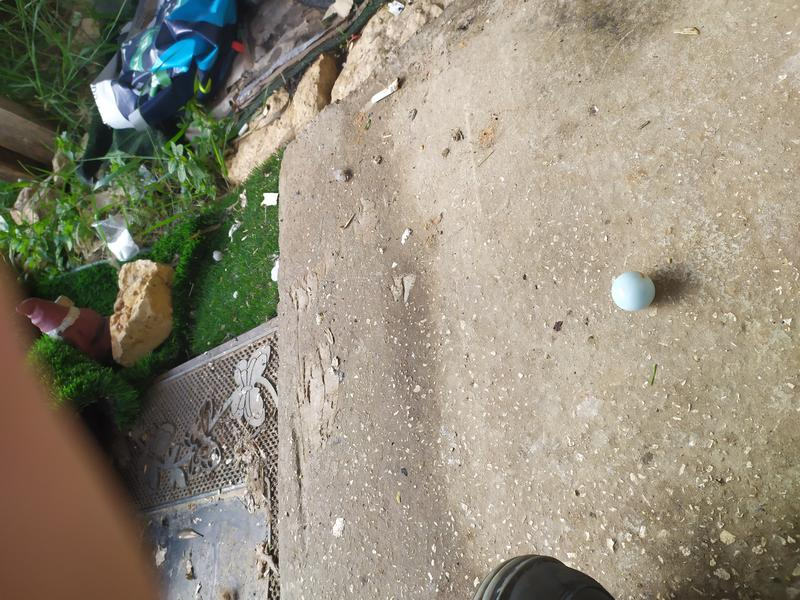Warning: (610, 269, 657, 313)
